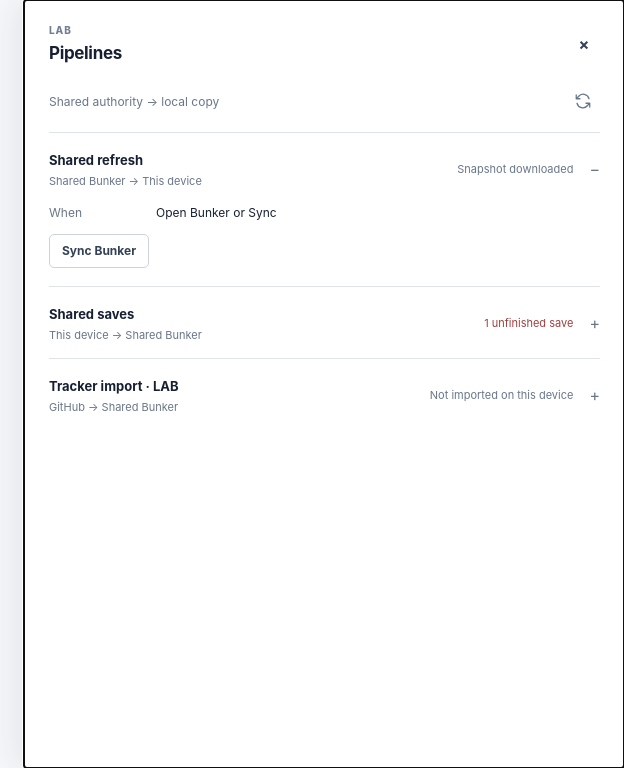
Test: Pipeline visibility › does not replay a failed write automatically
The image size is (624, 768).
Step 1. Click the button "Sync Bunker" → (99, 251), box [49,234,149,268]
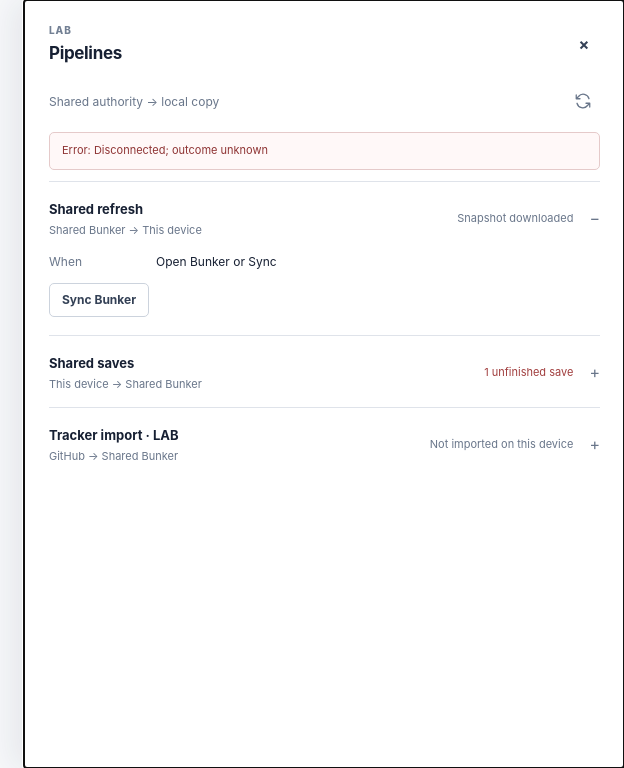
Check: the message shows "outcome unknown", box [62,143,268,157]
